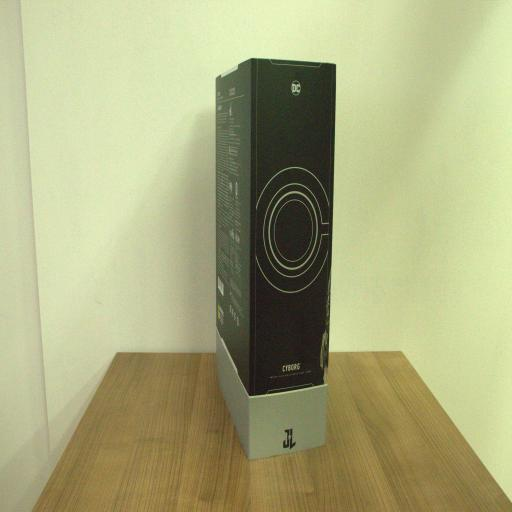Cyborg: (216, 57, 336, 458)
